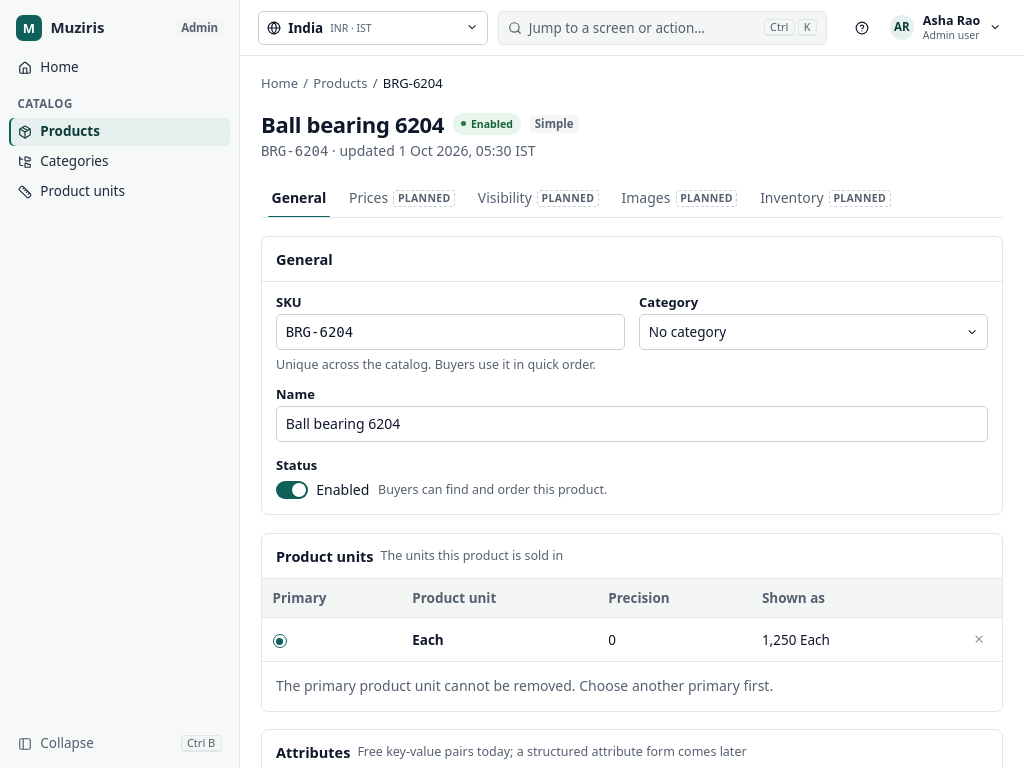
Test: product detail › saves only the fields that changed
The width and height of the screenshot is (1024, 768).
Replace the text in the field labelled "Name" with "Ball bearing 6204-2RS" at point(632, 424), box [276, 406, 988, 442]
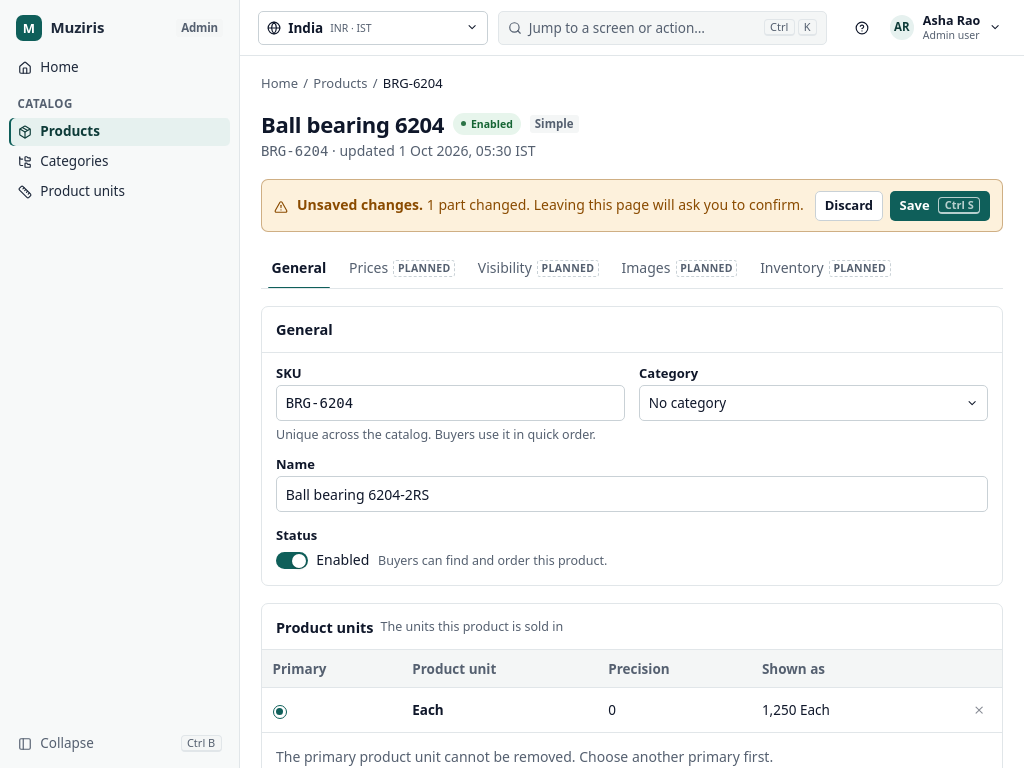
Expected: the text "Unsaved changes." is shown, [297, 196, 423, 214]
Press s
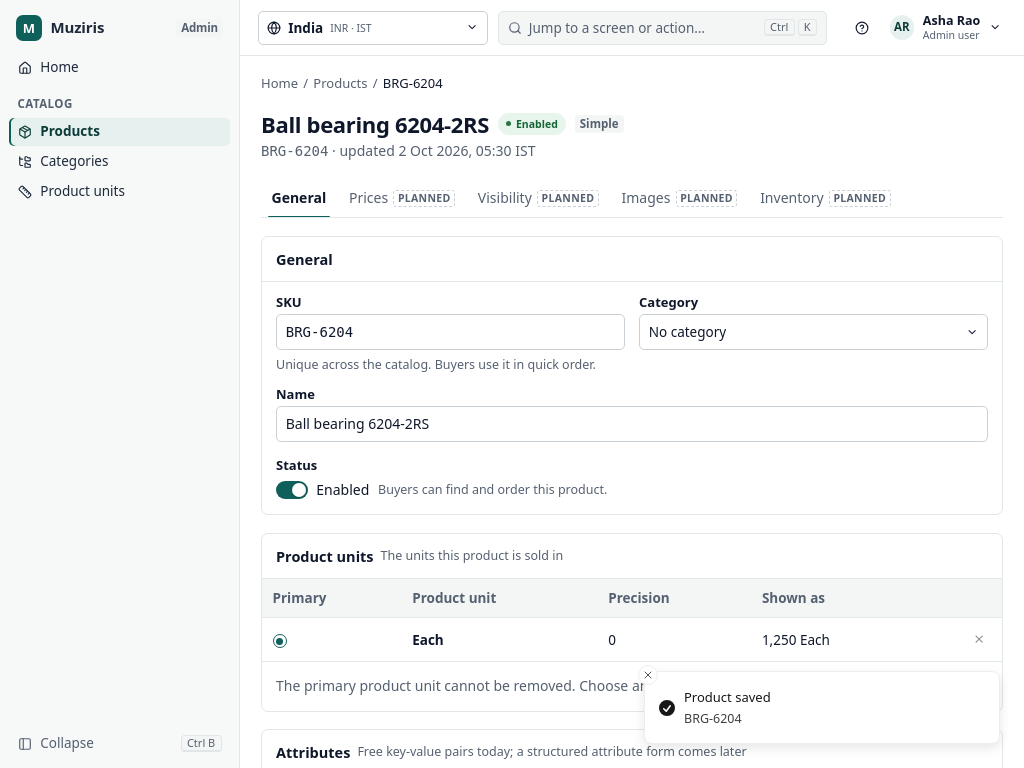
Expected: the text "Unsaved changes." is gone
